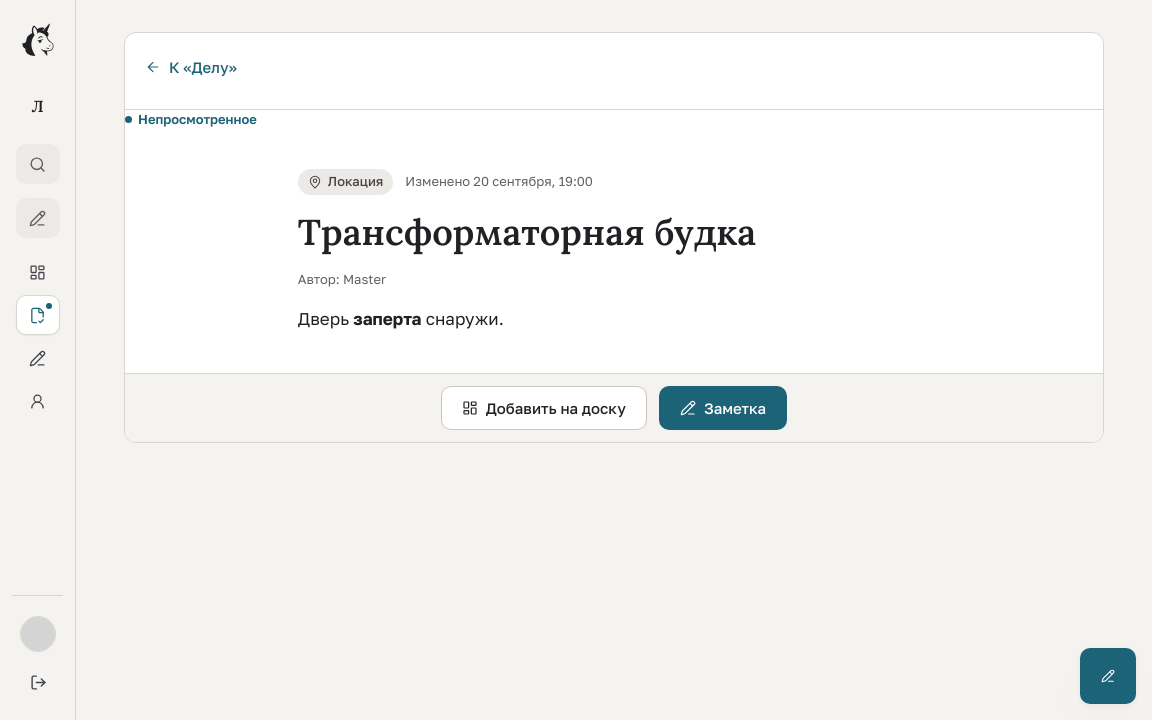
Test: CasePage › opens a material to read and puts it on the board
Expected: the text "Автор: Master" is shown, [298,271,386,287]
Click the button "Добавить на доску" at (544,408), box [441,386,647,430]
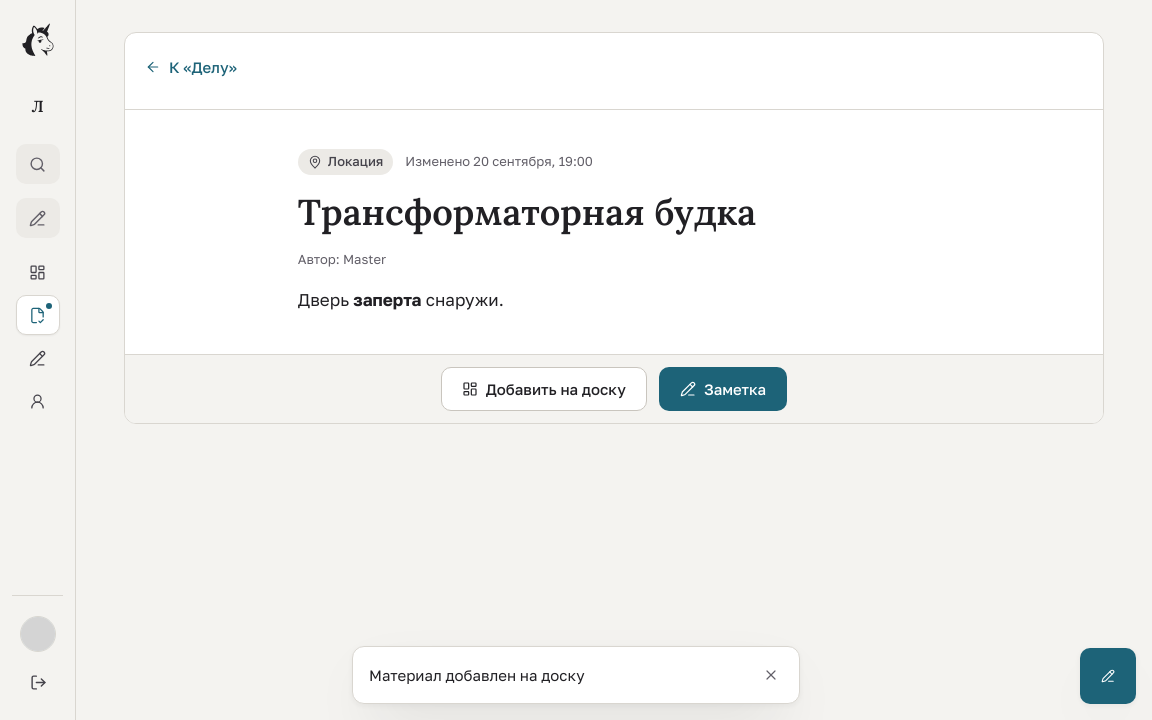
Click the button "Заметка" at (723,389), box [659,367,787,411]
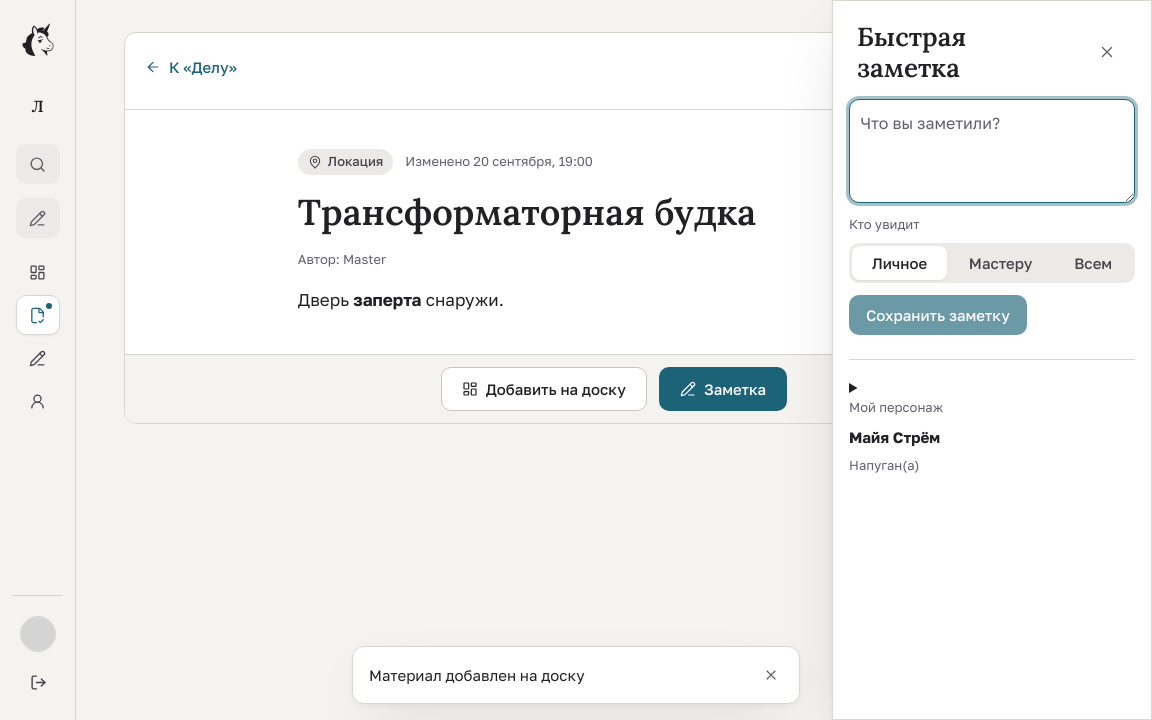
Result: the dialog "Быстрая заметка" is shown at [832,0,1151,719]
